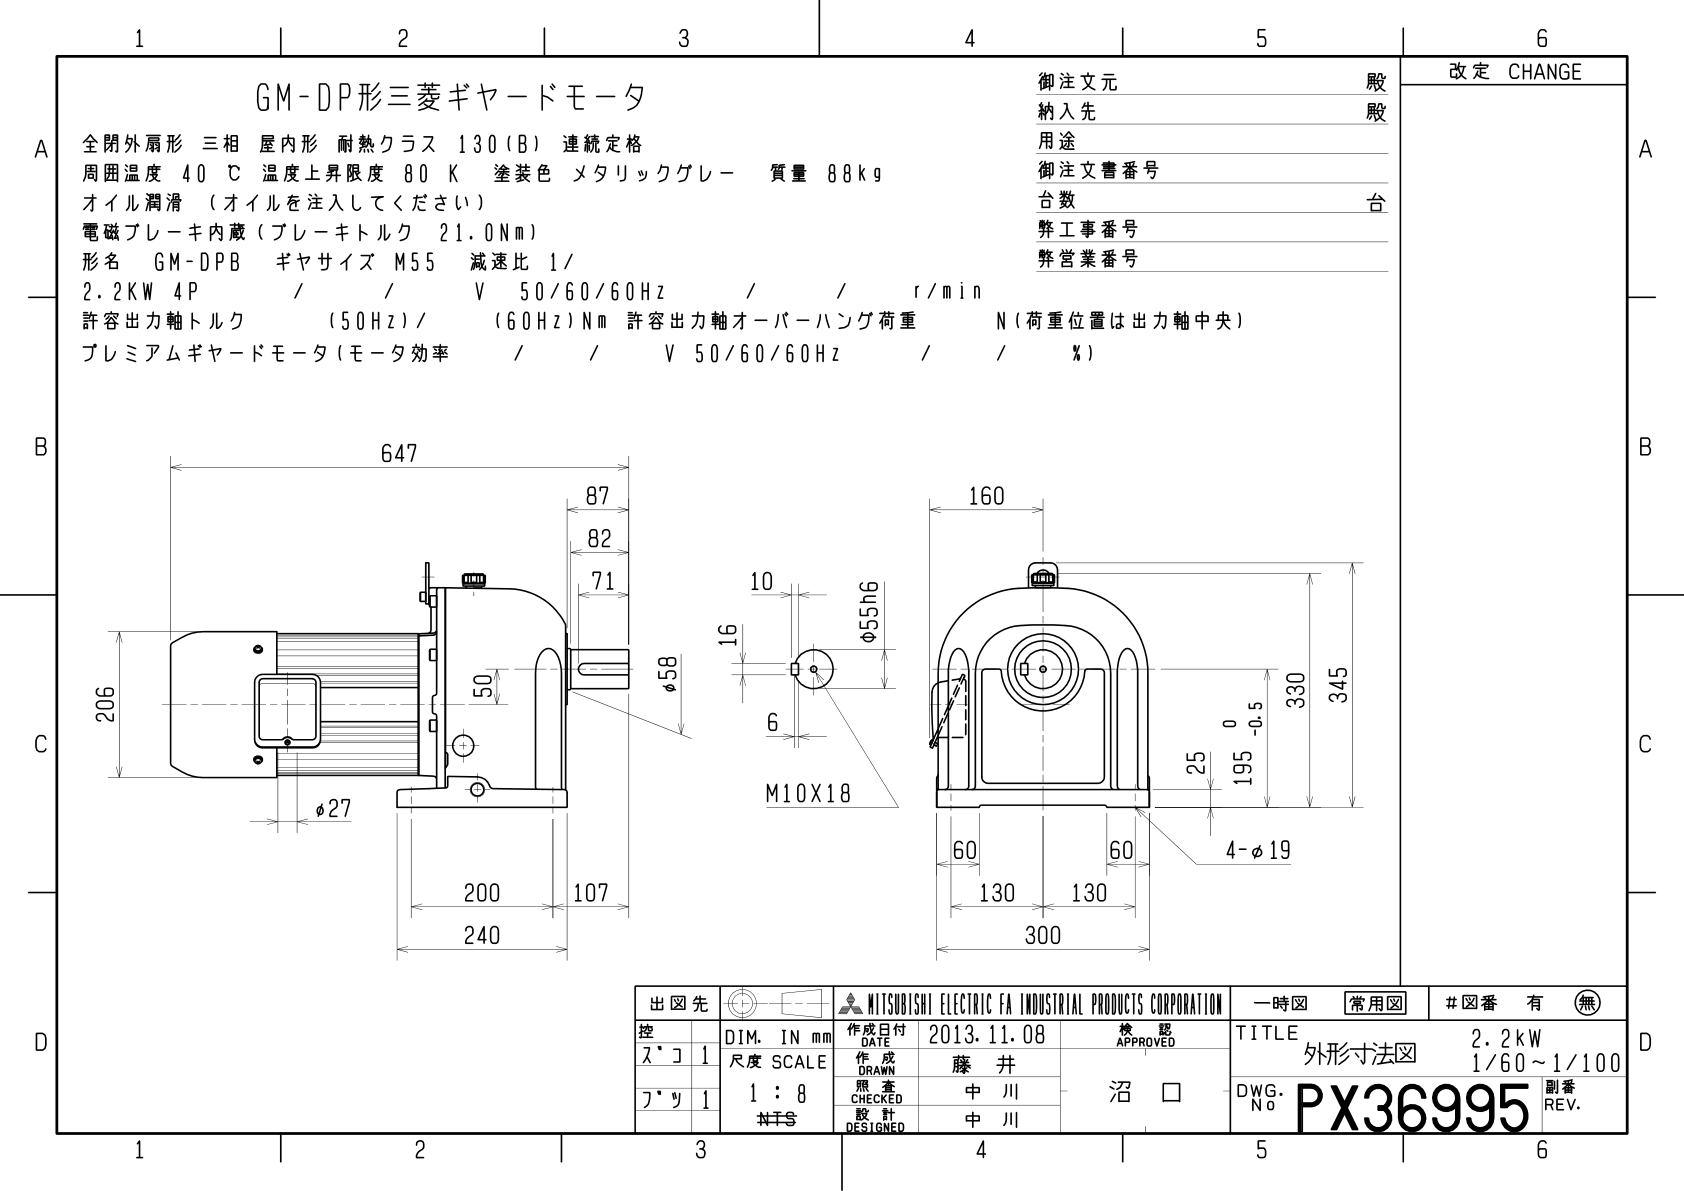GM_DP_屋内_三相_脚: (79, 410, 1377, 969)
